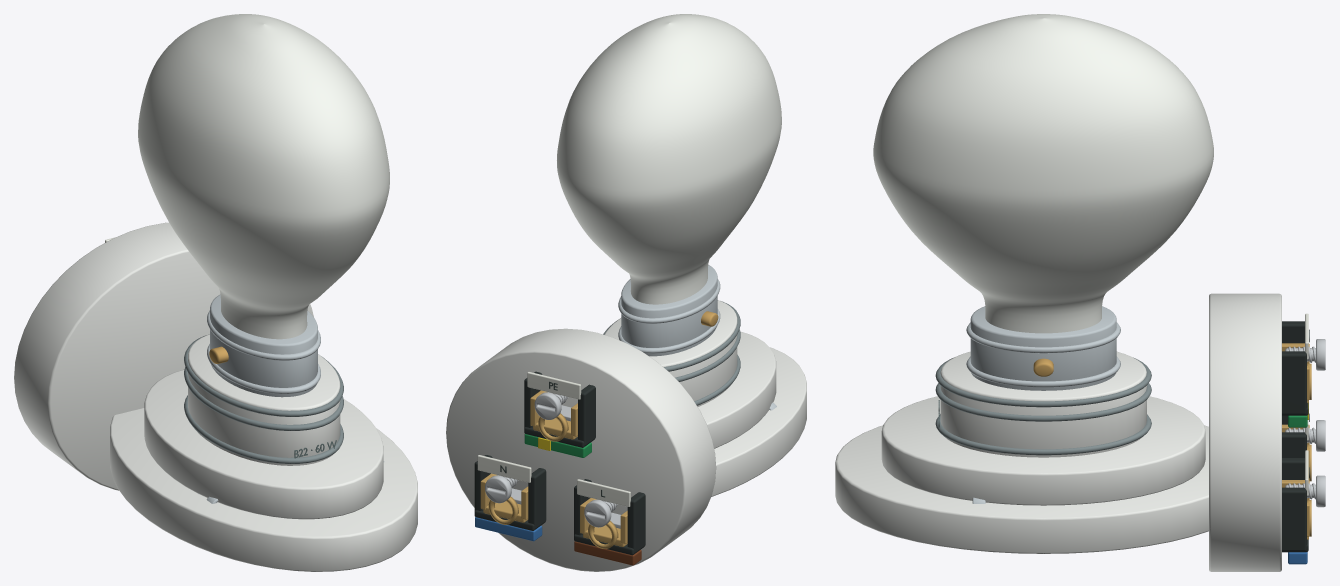
Rendered from lamp_bulb.glb.
The picture shows the model from 3 angles, left to right: view 1: azimuth 30°, elevation 25°; view 2: azimuth 150°, elevation 25°; view 3: azimuth 270°, elevation 25°; orthographic projection. The views are drawn at different scales.
Parts seen in each view (by area): view 1: Smooth pear bulb envelope, part:body · Satin moulded white plastic, part:terminals · Satin moulded white plastic, Ceramic B22 holder cap, part:pins · Brushed nickel fixings, part:body · Moulded recess; view 2: Smooth pear bulb envelope, part:terminals · Satin moulded white plastic, part:body · Satin moulded white plastic, part:pins · Brushed nickel fixings, Ceramic B22 holder cap, detail:terminal-clamp:N · Detail moulded engineering polymer, detail:terminal-clamp:L · Detail moulded engineering polymer, detail:terminal-clamp:PE · Detail moulded engineering polyme, part:body · Moulded recess, detail:terminal-clamp:N · Detail machined brass, detail:terminal-clamp:L · Detail machined brass, detail:terminal-clamp:PE · Detail machined brass (+9 smaller); view 3: Smooth pear bulb envelope, part:body · Satin moulded white plastic, part:terminals · Satin moulded white plastic, Ceramic B22 holder cap, part:pins · Brushed nickel fixings, part:body · Moulded recess, detail:terminal-clamp:PE · Detail moulded engineering polyme, detail:terminal-clamp:N · Detail moulded engineering polymer, detail:terminal-clamp:L · Detail moulded engineering polymer.
Part boxes in pixels (box(x1,y1,x2,y2)): Smooth pear bulb envelope: box(138, 14, 389, 339); part:body · Satin moulded white plastic: box(110, 369, 417, 571); part:terminals · Satin moulded white plastic: box(14, 222, 313, 490); Ceramic B22 holder cap: box(188, 334, 340, 465); part:pins · Brushed nickel fixings: box(207, 294, 320, 397); part:body · Moulded recess: box(184, 335, 343, 463); Smooth pear bulb envelope: box(557, 14, 781, 304); part:terminals · Satin moulded white plastic: box(446, 328, 716, 571); part:body · Satin moulded white plastic: box(698, 331, 806, 496); part:pins · Brushed nickel fixings: box(618, 265, 720, 356); Ceramic B22 holder cap: box(604, 300, 737, 406); detail:terminal-clamp:N · Detail moulded engineering polymer: box(474, 455, 546, 530); detail:terminal-clamp:L · Detail moulded engineering polymer: box(574, 479, 645, 555); detail:terminal-clamp:PE · Detail moulded engineering polyme: box(524, 371, 595, 447); part:body · Moulded recess: box(603, 301, 740, 405); detail:terminal-clamp:N · Detail machined brass: box(480, 473, 528, 524); detail:terminal-clamp:L · Detail machined brass: box(580, 498, 627, 548); detail:terminal-clamp:PE · Detail machined brass: box(530, 390, 577, 441); Smooth pear bulb envelope: box(873, 14, 1213, 333); part:body · Satin moulded white plastic: box(835, 396, 1208, 553); part:terminals · Satin moulded white plastic: box(1209, 293, 1281, 571); Ceramic B22 holder cap: box(940, 351, 1146, 457); part:pins · Brushed nickel fixings: box(966, 306, 1120, 390); part:body · Moulded recess: box(935, 357, 1151, 455); detail:terminal-clamp:PE · Detail moulded engineering polyme: box(1282, 321, 1308, 415); detail:terminal-clamp:N · Detail moulded engineering polymer: box(1282, 458, 1308, 552); detail:terminal-clamp:L · Detail moulded engineering polymer: box(1282, 415, 1306, 457).
Bounding box in the file's own units: 0.52 × 0.972 × 0.8055.
